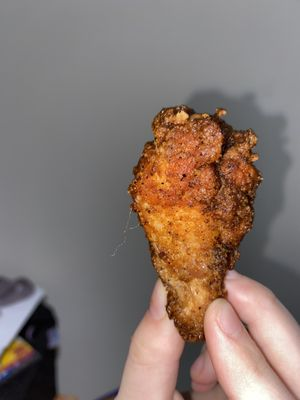pizza: (100, 269, 299, 400)
